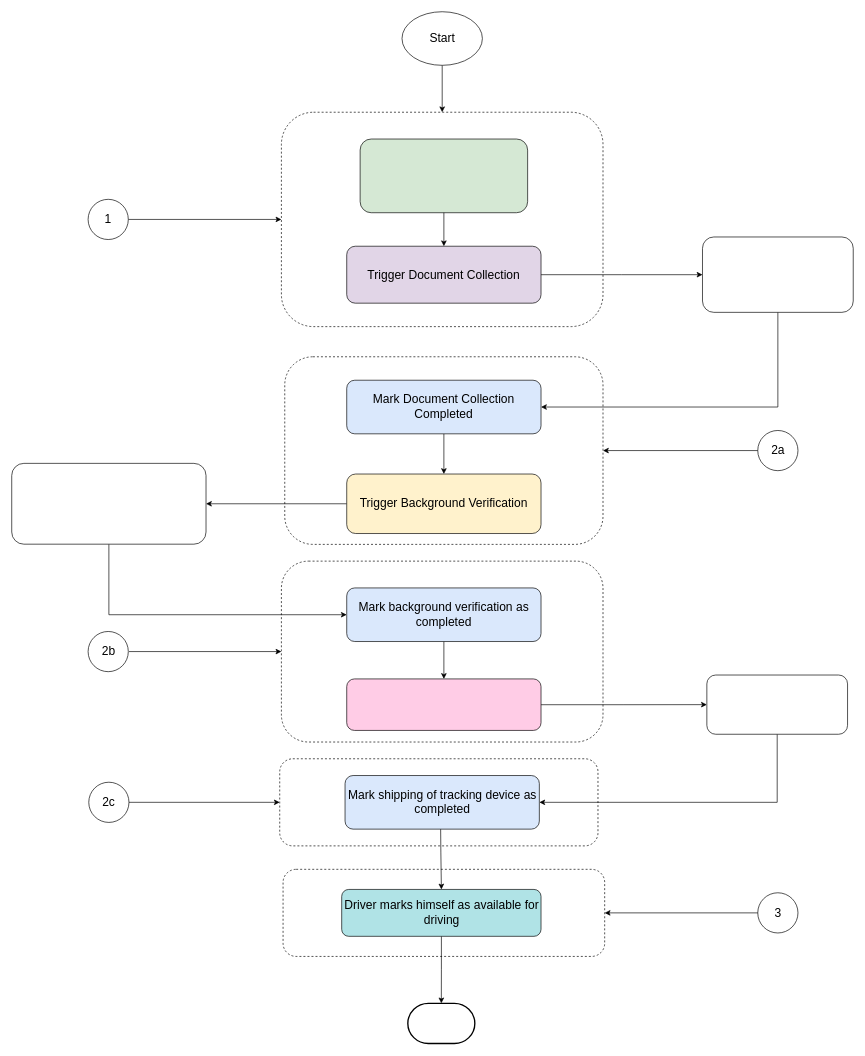
The diagram is 865 pixels wide and 1056 high, and some of its shapes have lost their labels. The shapes that lost their labels are listed below. From the top down, each one's centre as x and y in pixels, then its label:
At (x=443, y=175): "Collect basic user information (name, email, mobile etc)".
At (x=777, y=274): "Document Collection Service".
At (x=108, y=503): "Background Verification Service".
At (x=443, y=704): "Trigger Shipping of tracking device".
At (x=777, y=704): "Tracker Shipping Service".
At (x=441, y=1023): "End".
